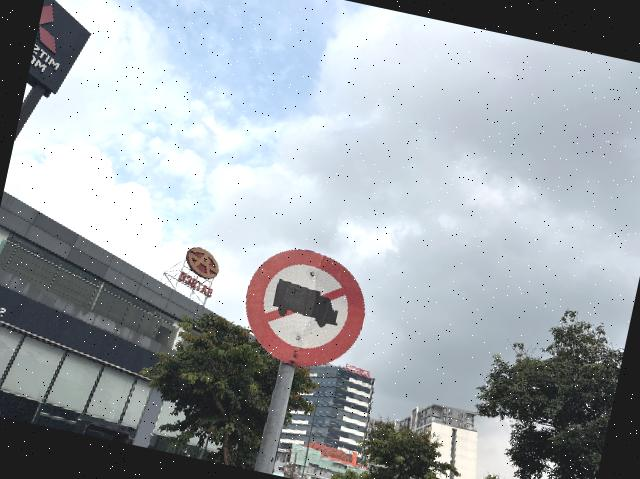cam-xe-tai: (233, 239, 376, 379)
